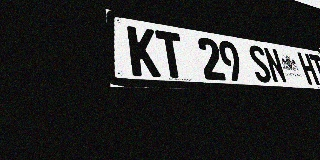2: (196, 36, 226, 81)
9: (217, 40, 245, 82)
H: (297, 52, 320, 85)
K: (127, 26, 161, 77)
N: (262, 47, 288, 84)
S: (247, 44, 273, 83)
T: (155, 30, 187, 79), (308, 54, 320, 86)
